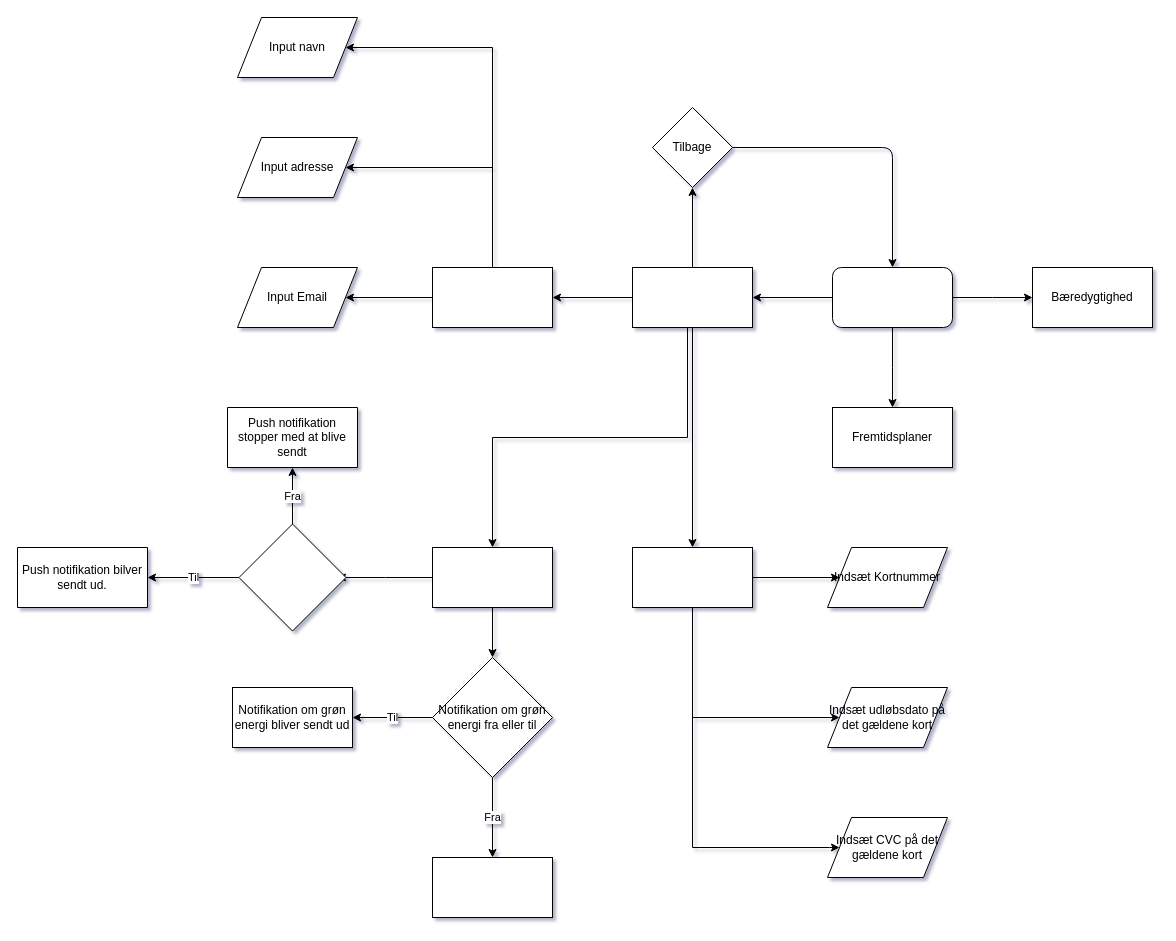
Some shapes in this 1176 by 941 pixel diagram are drawn without their labels. Here are the shapes that lost their labels. From the top down, the centre of each, then its label:
At (492,297): "Profil".
At (692,297): "Indstillinger".
At (892,297): "Start".
At (292,577): "Push notifikation fra eller til".
At (492,577): "Notifikationer".
At (692,577): "Betaling".
At (492,887): "Notifikation om grøn energi stopper med at blive sendt".
